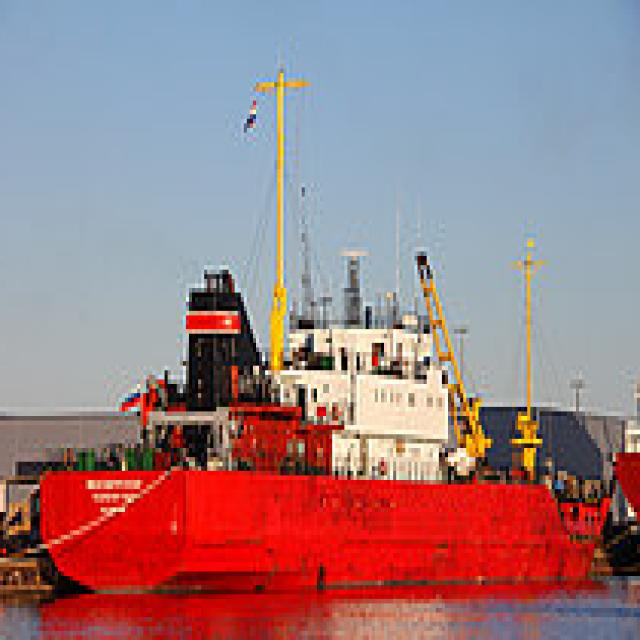Cargo: (39, 247, 622, 599)
